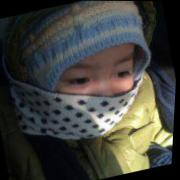WRONG: (37, 38, 151, 148)
